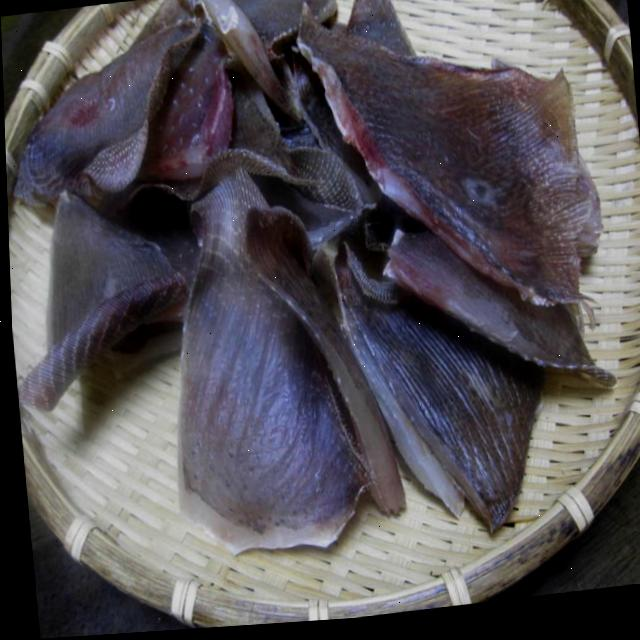熟制海鲜: (0, 0, 627, 596)
